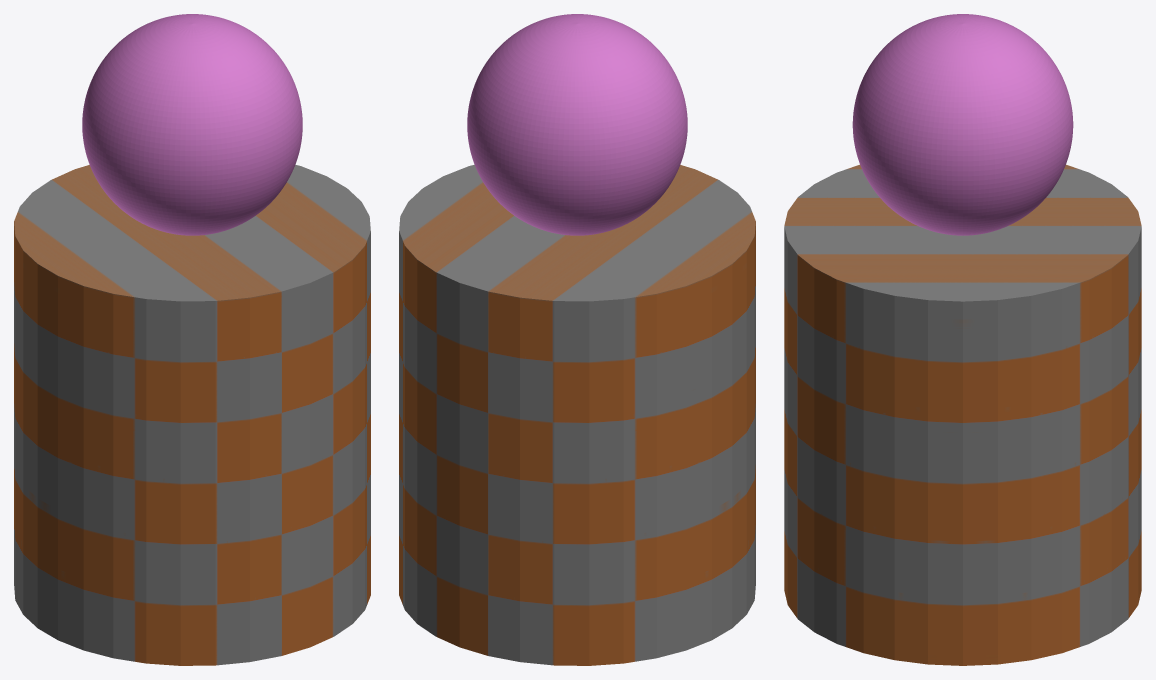
Rendered from BOD5_BMC3_BCC0_BPT4_FRC0_HEA0_HMC10_HCC0_HPT0_ELT0_ERT0_ELL0_ERL0_AP0_AAL0_AAR0_BEK0.fbx.
3 renders of one model, left to right at view 1: azimuth 30°, elevation 25°; view 2: azimuth 150°, elevation 25°; view 3: azimuth 270°, elevation 25°, orthographic.
Parts seen in each view (by area): view 1: Body, Head; view 2: Body, Head; view 3: Body, Head.
Part boxes in pixels (bbox=[...]): Body: bbox=[14, 164, 370, 665]; Head: bbox=[82, 14, 302, 235]; Body: bbox=[399, 164, 755, 665]; Head: bbox=[467, 14, 687, 235]; Body: bbox=[784, 164, 1141, 665]; Head: bbox=[852, 14, 1073, 235].
Bounding box in the file's own units: 80 × 140 × 80.
Materials: 2 (2 with a texture image).
